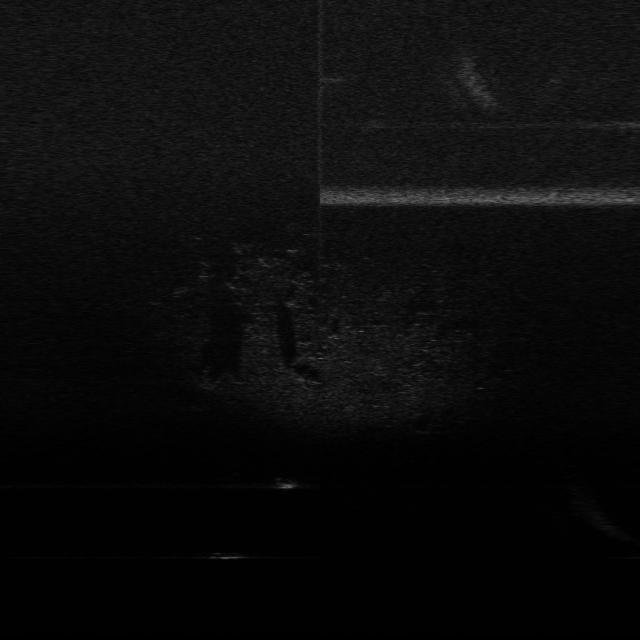cube: (206, 548, 248, 561)
square cage: (272, 474, 299, 489)
